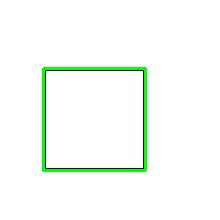line_segment: (42, 67, 147, 172)
